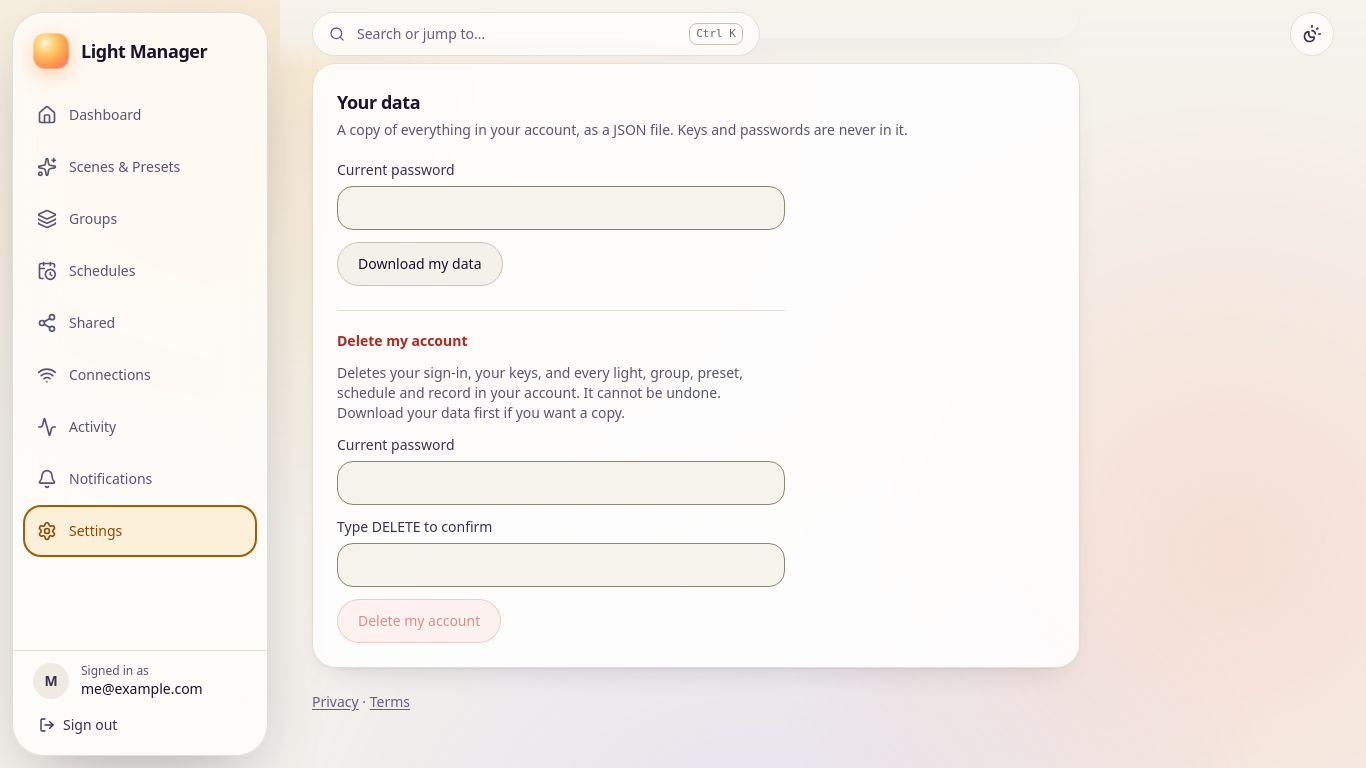
Test: your data › shows the sign-in page as soon as the account is deleted
(page scrolled)
Type "my-password-123" into the 2nd password field labelled "Current password" at (561, 483), box [337, 461, 785, 505]
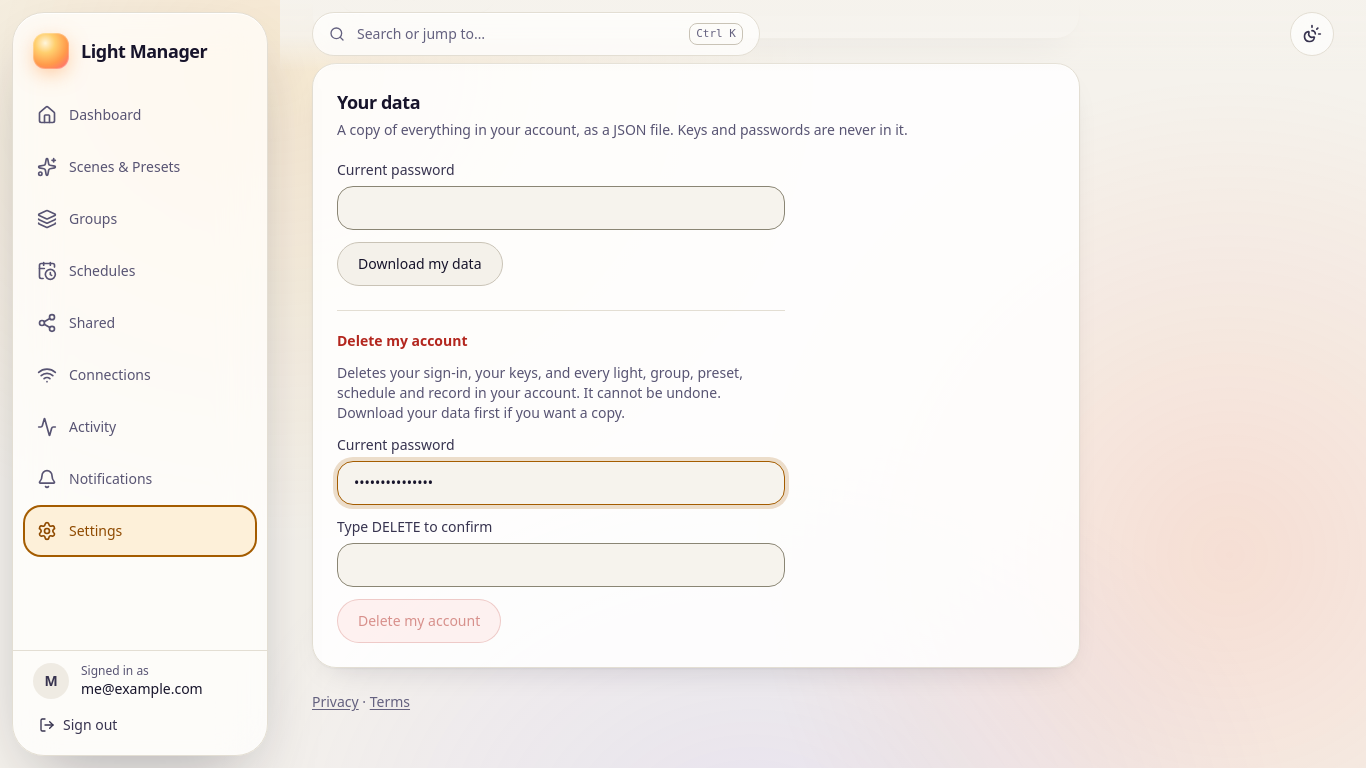
Type "DELETE" into the field labelled "Type DELETE to confirm" at (561, 565), box [337, 543, 785, 587]
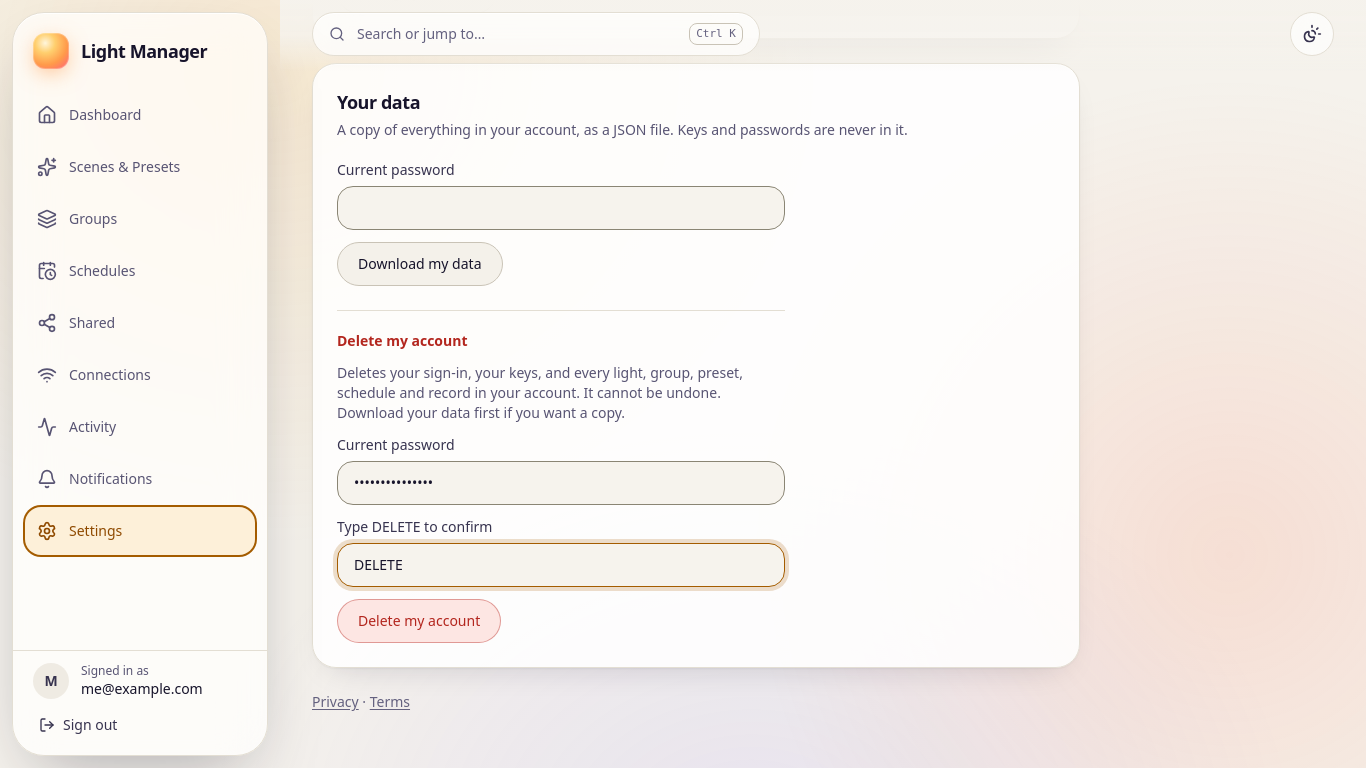
Click the button "Delete my account" at (419, 621), box [337, 599, 501, 643]
(page scrolled)
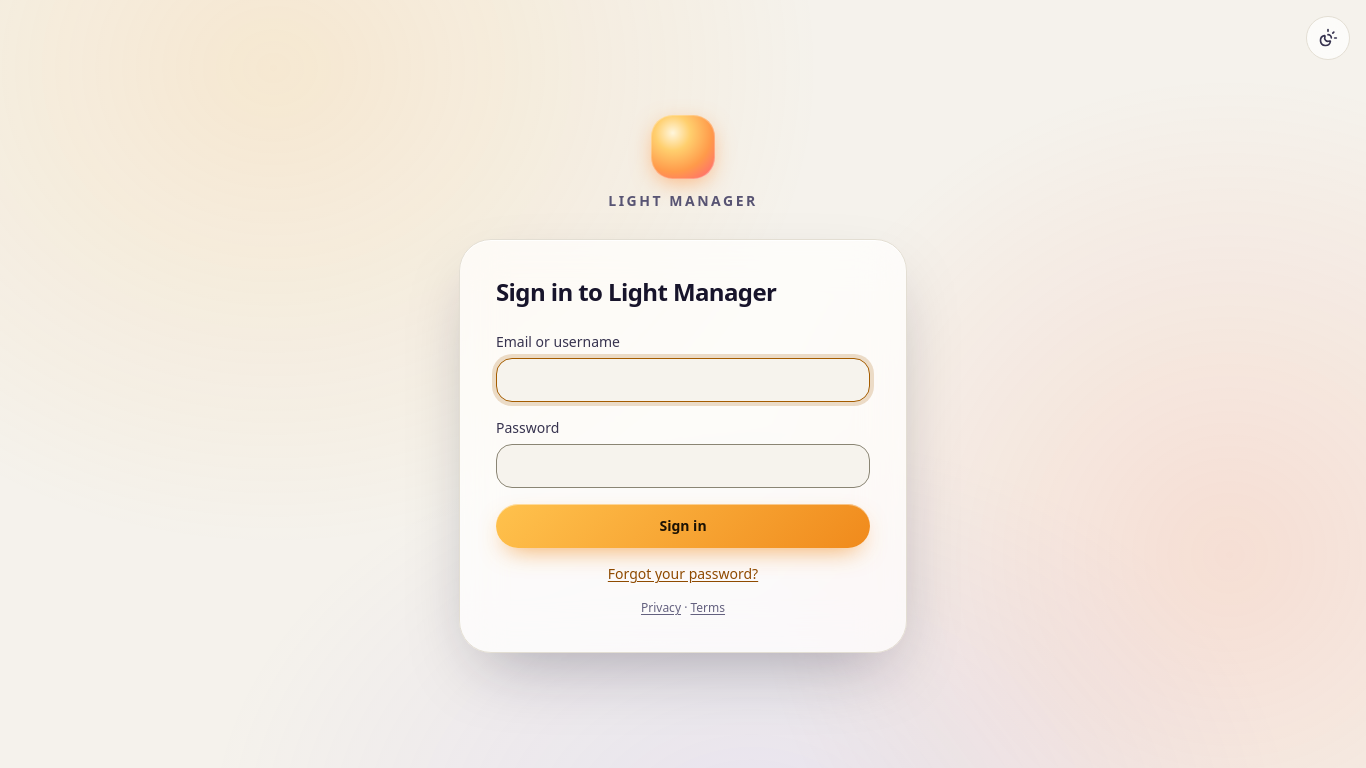
Now the heading "Sign in to Light Manager" is shown, box [496, 275, 776, 308]
